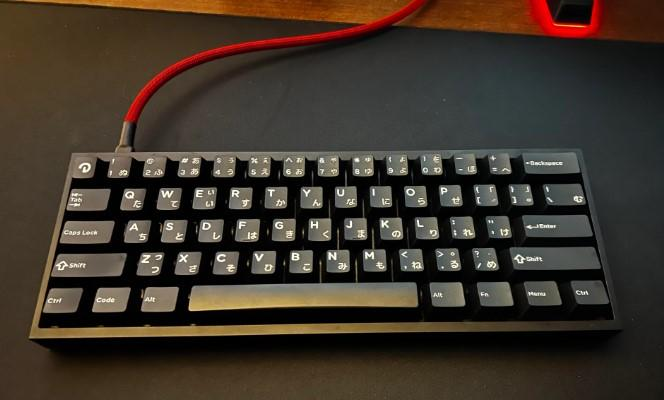Keyboard: (27, 145, 623, 343)
